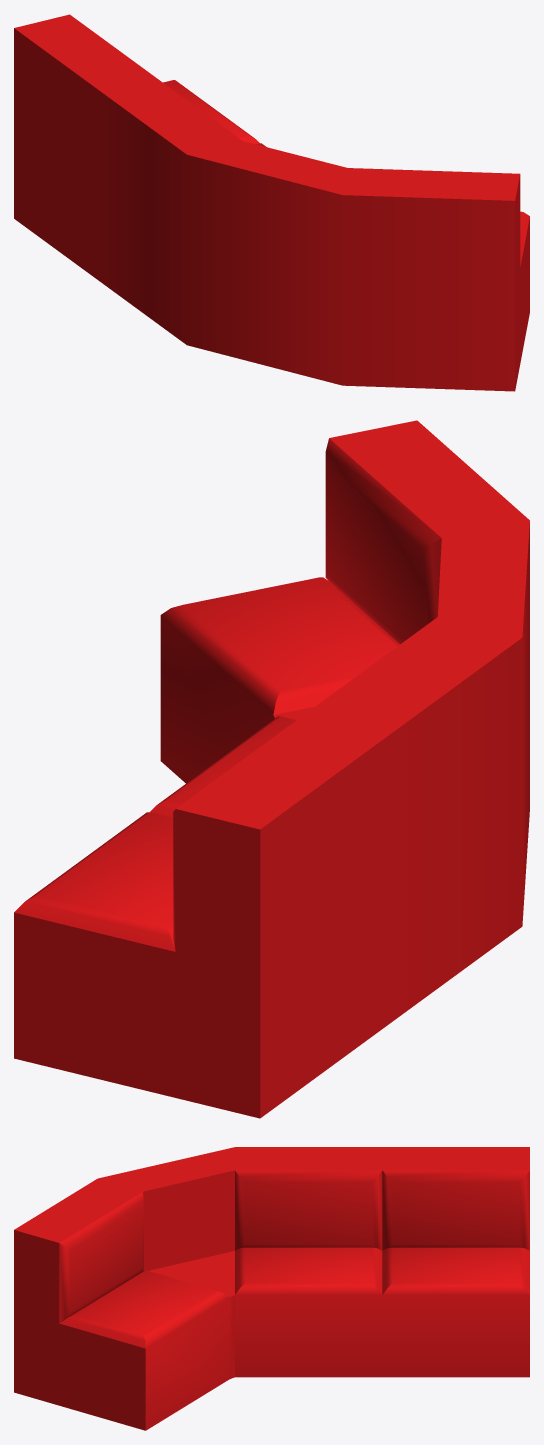
File: Asiento.fbx
The picture shows the model from 3 angles, top to bottom: view 1: azimuth 30°, elevation 25°; view 2: azimuth 150°, elevation 25°; view 3: azimuth 270°, elevation 25°; orthographic projection. The views are drawn at different scales.
Parts seen in each view (by area): view 1: Asiento; view 2: Asiento; view 3: Asiento.
Part boxes in pixels (box(x1,y1,x2,y2)): Asiento: box(14, 14, 529, 391); Asiento: box(14, 420, 529, 1118); Asiento: box(14, 1147, 529, 1430).
Size of the model in its own units: 2.4 by 1.5 by 4.32.
